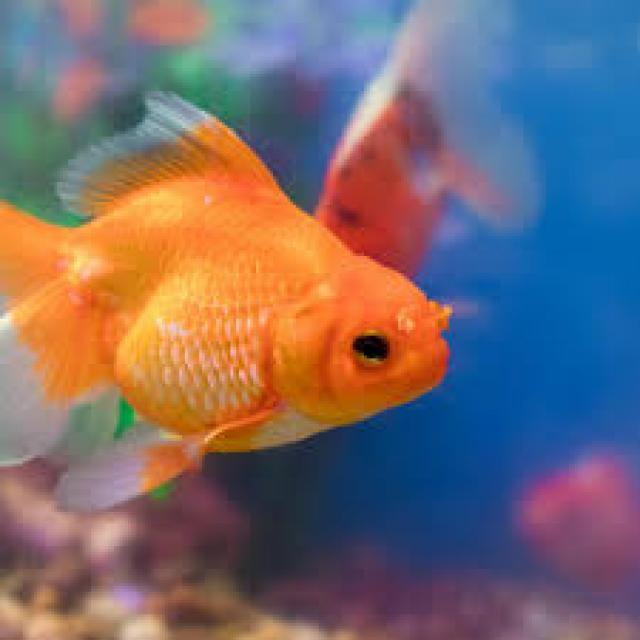goldfish: (14, 114, 456, 529)
